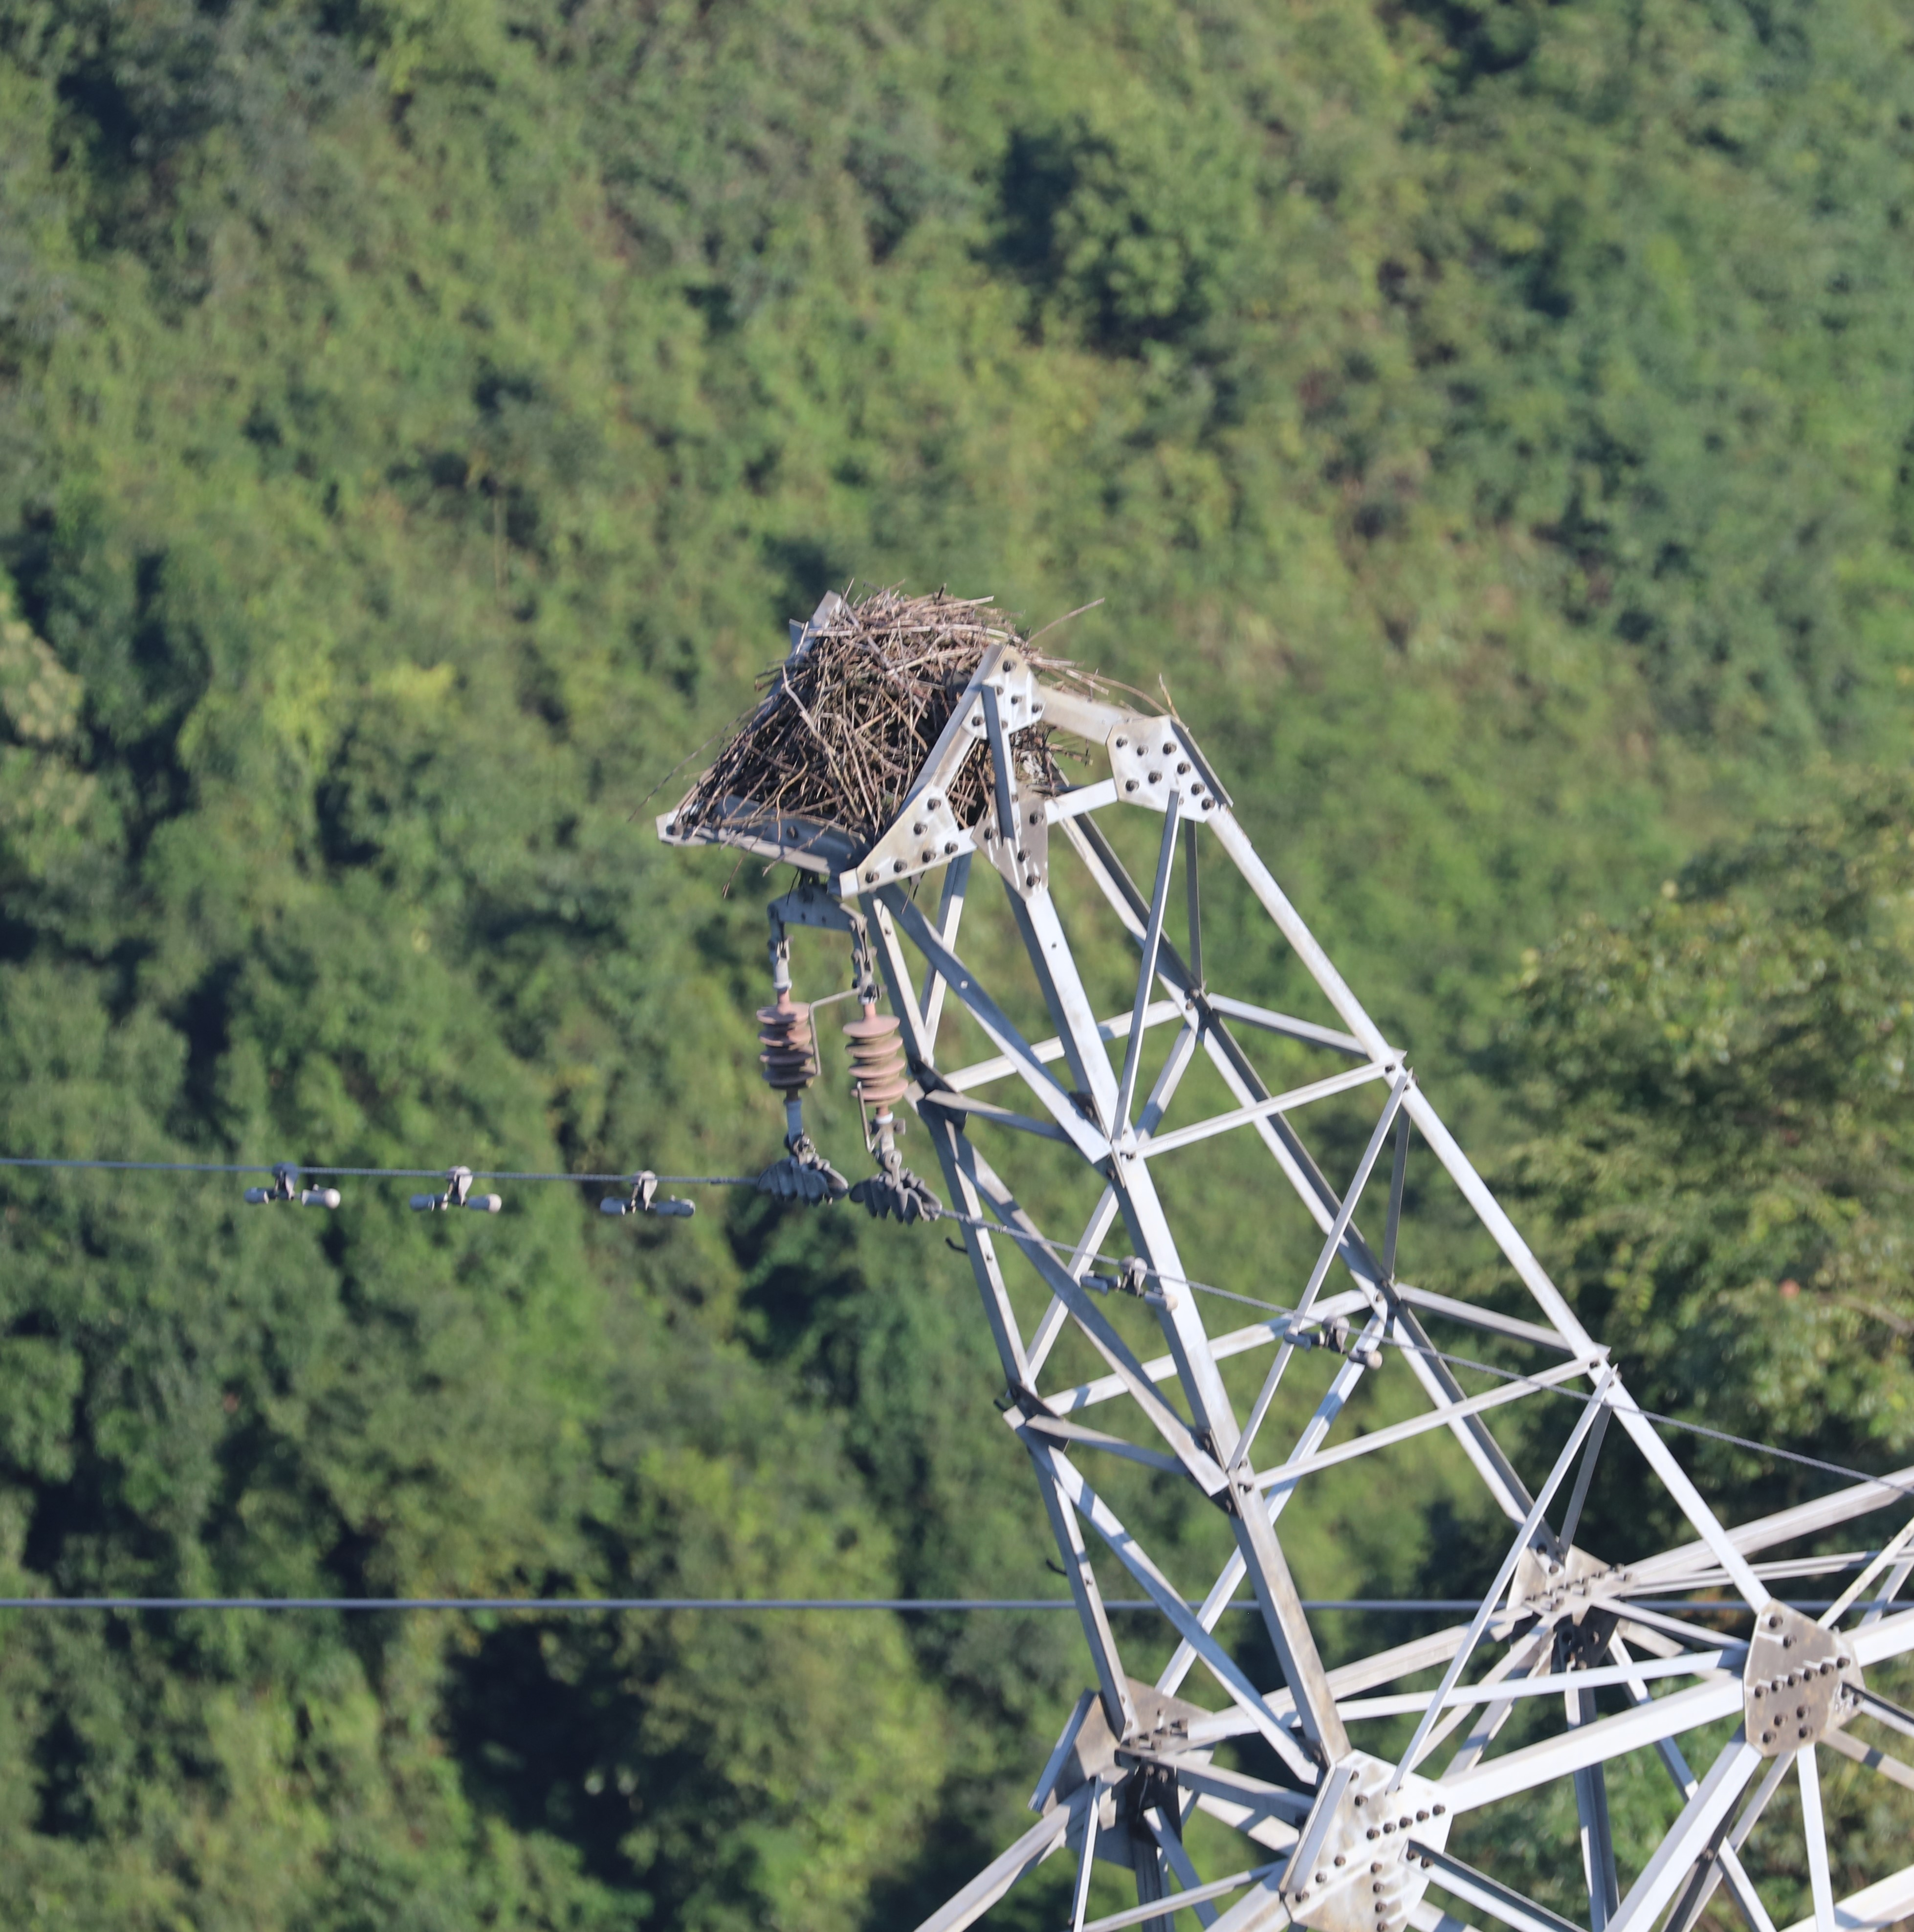niaowo: (673, 570, 1083, 842)
